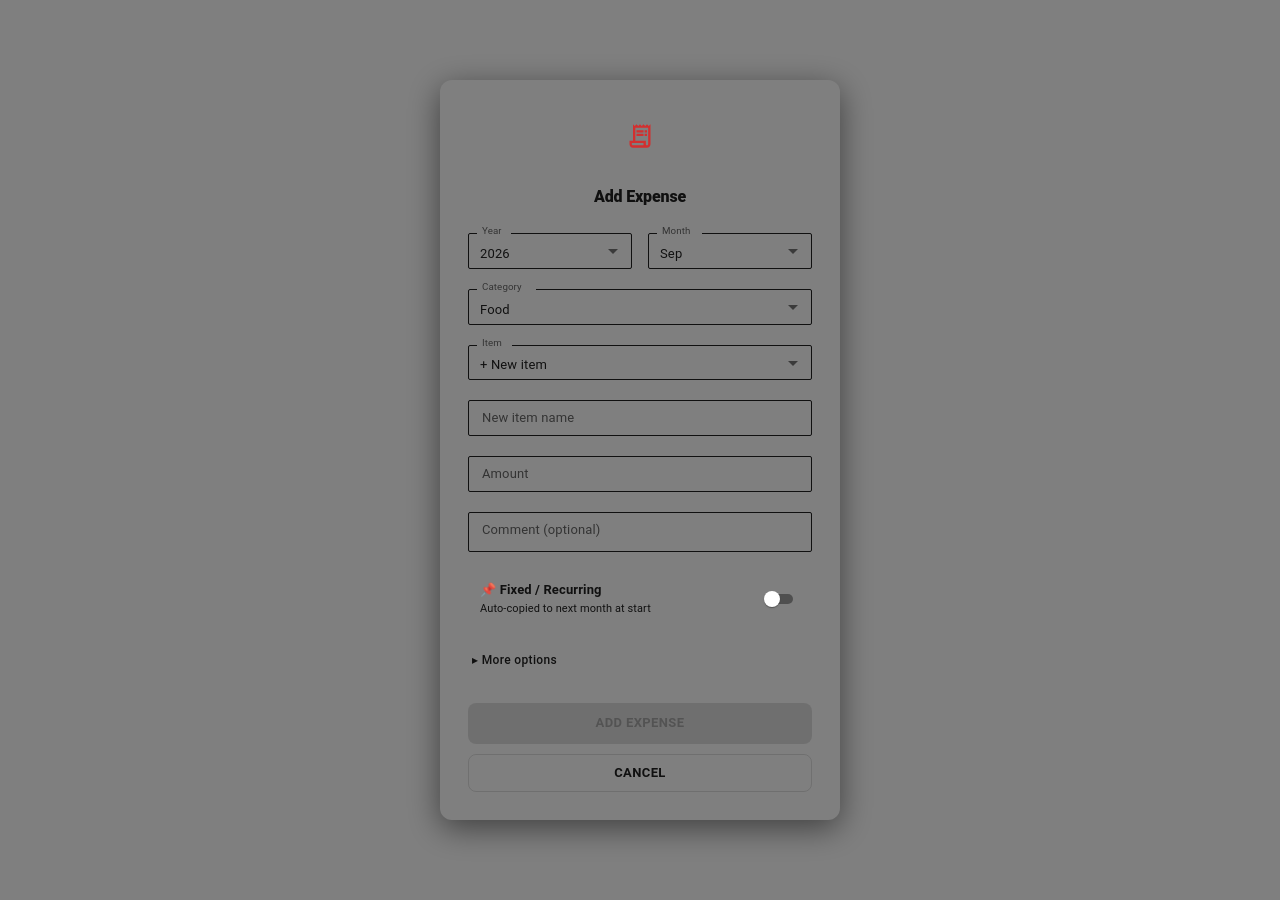
Test case: AddExpenseModal pick an existing item › "+ New item" goes back to adding a separate item
Step 1. Select "Petrol (₹2,000)" in the 4th dropdown named "+ New item" → (640, 363), box x1=468 y1=345 x2=812 y2=380
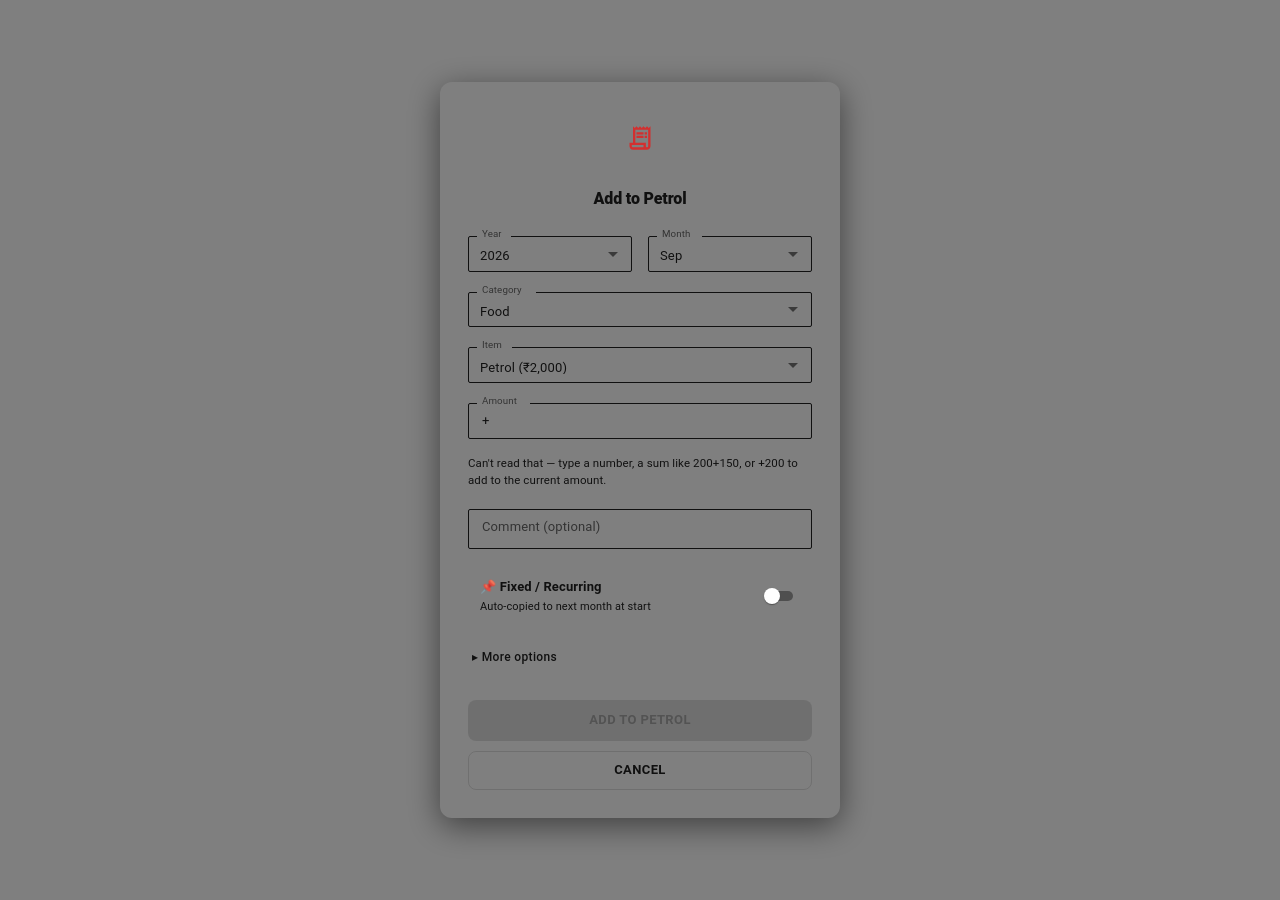
Step 2. Select "+ New item" in the dropdown named "+ New item" next to "Item" → (640, 365), box x1=468 y1=347 x2=812 y2=383
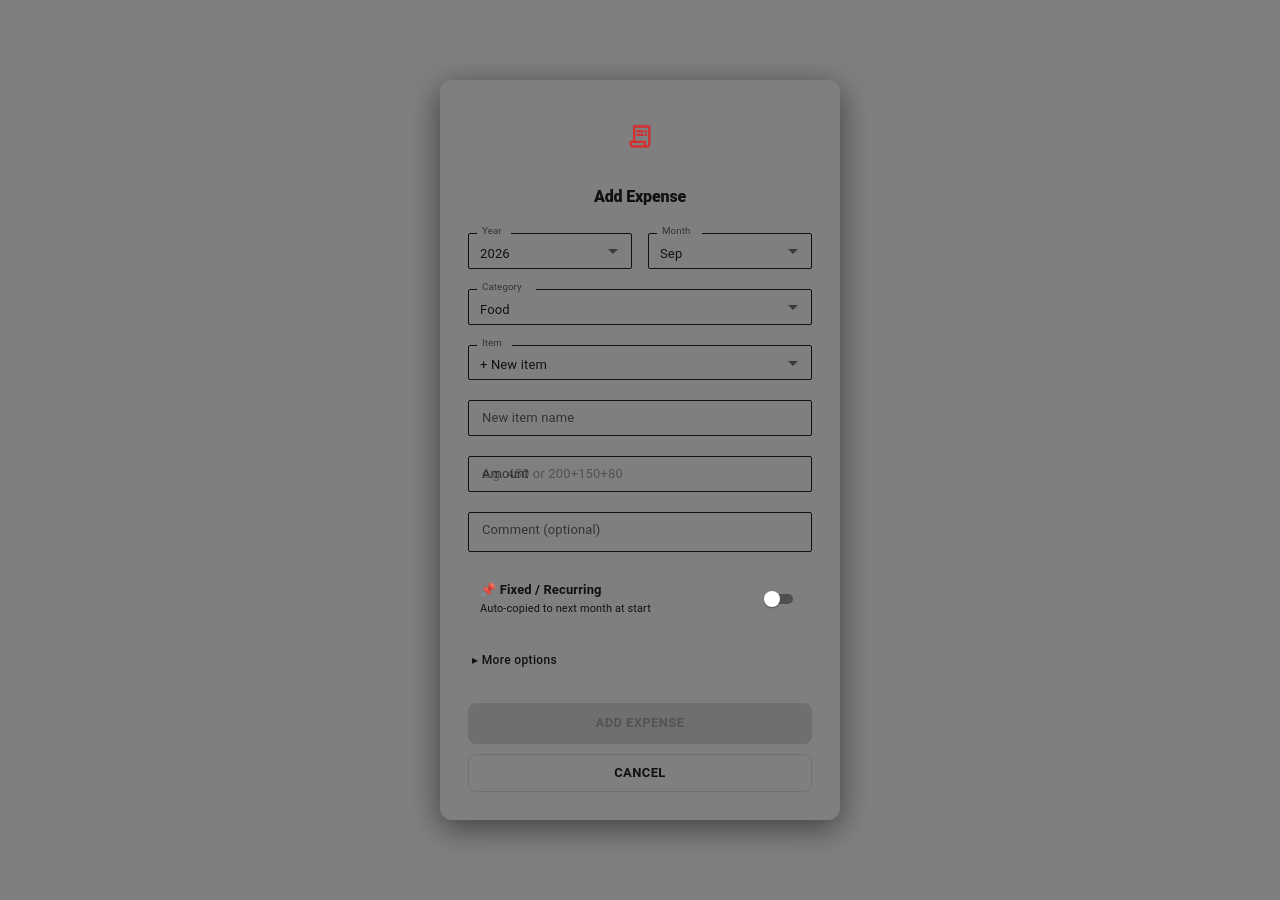
Now the field with placeholder "e.g. Electricity Bill" is empty, box x1=468 y1=400 x2=812 y2=436
Now the button "Add Expense" is shown, box x1=468 y1=703 x2=812 y2=744
